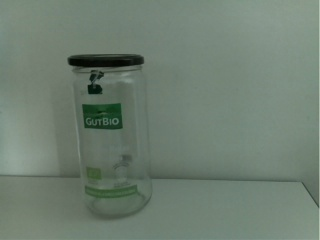pote cristal: (67, 53, 152, 218)
